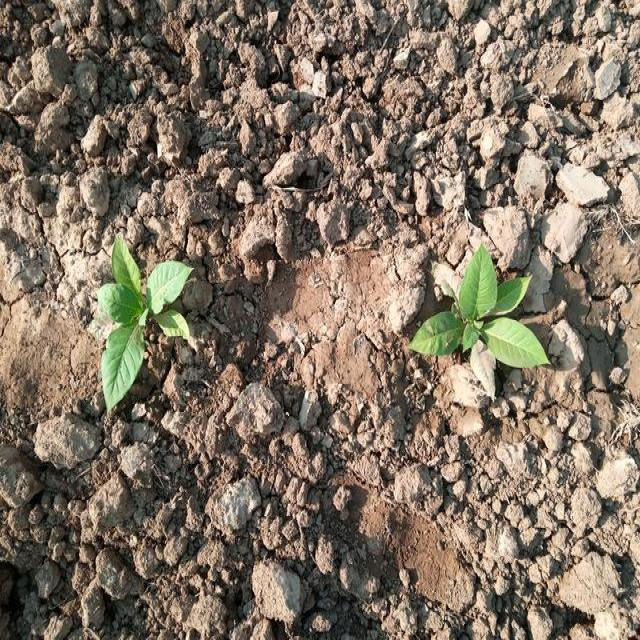crop: (419, 250, 546, 404), (86, 234, 197, 400)
